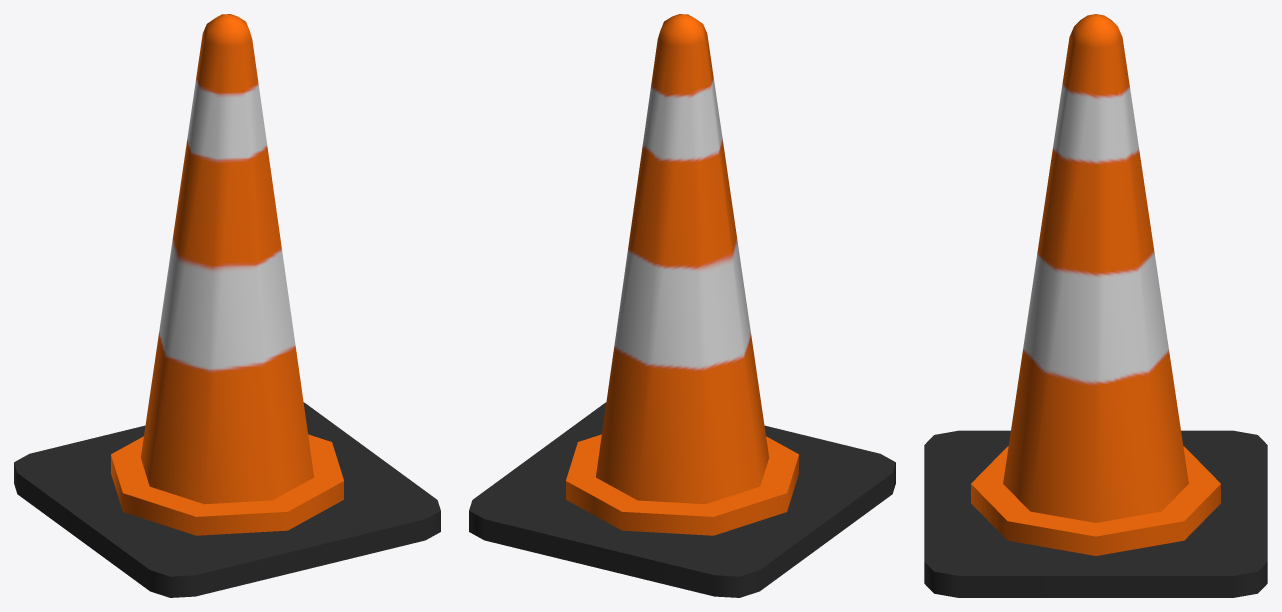
File: Corn.fbx
The picture shows the model from 3 angles, left to right: view 1: azimuth 30°, elevation 25°; view 2: azimuth 150°, elevation 25°; view 3: azimuth 270°, elevation 25°; orthographic projection. The views are drawn at different scales.
Parts seen in each view (by area): view 1: corn; view 2: corn; view 3: corn.
Boxes of the visible parts, x1,y1,x2,y2 form: corn: [14, 14, 440, 597]; corn: [469, 14, 895, 597]; corn: [924, 14, 1267, 597].
Bounding box in the file's own units: 0.0253 × 0.0414 × 0.0253.
1 material, 1 textured.
